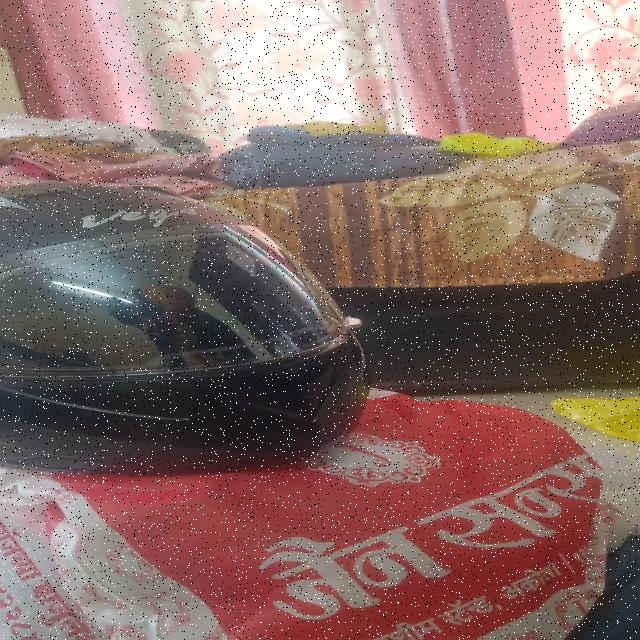Helmet: (0, 182, 371, 456)
